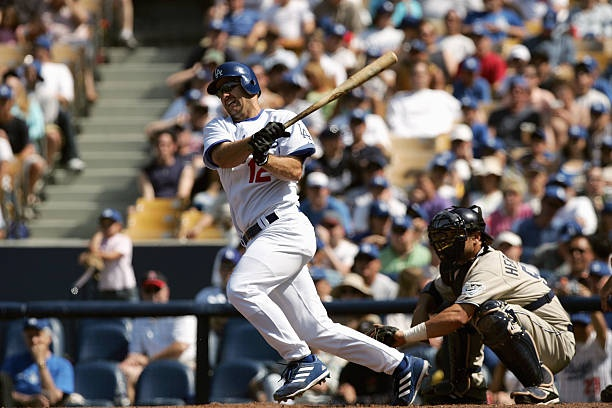bita: (282, 49, 399, 135)
